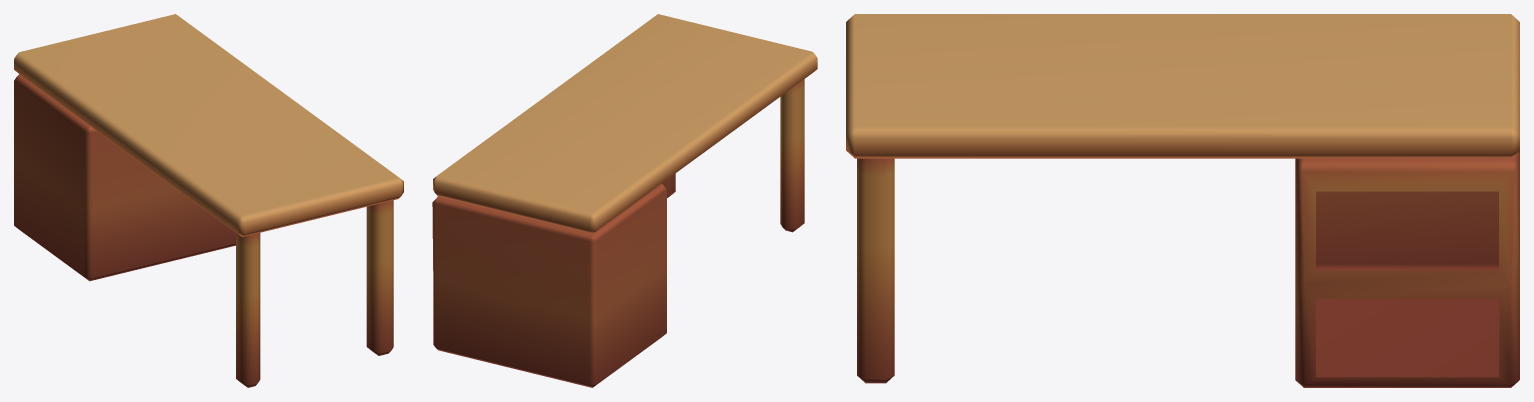
The model's file is Desk.fbx.
The picture shows the model from 3 angles, left to right: view 1: azimuth 30°, elevation 25°; view 2: azimuth 150°, elevation 25°; view 3: azimuth 270°, elevation 25°; orthographic projection. The views are drawn at different scales.
Visible parts, largest first — view 1: Desk; view 2: Desk; view 3: Desk.
Boxes of the visible parts, x1,y1,x2,y2 form: Desk: [14, 14, 403, 387]; Desk: [432, 14, 817, 387]; Desk: [846, 14, 1519, 387].
Size of the model in its own units: 1.03 by 1.01 by 2.4.
